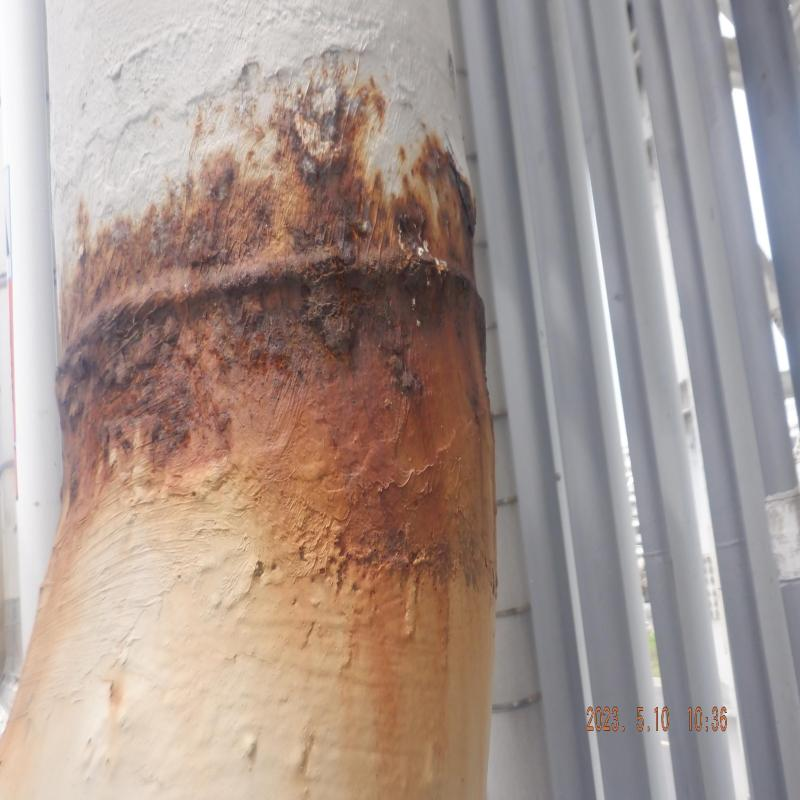corrosion: (87, 201, 479, 578)
